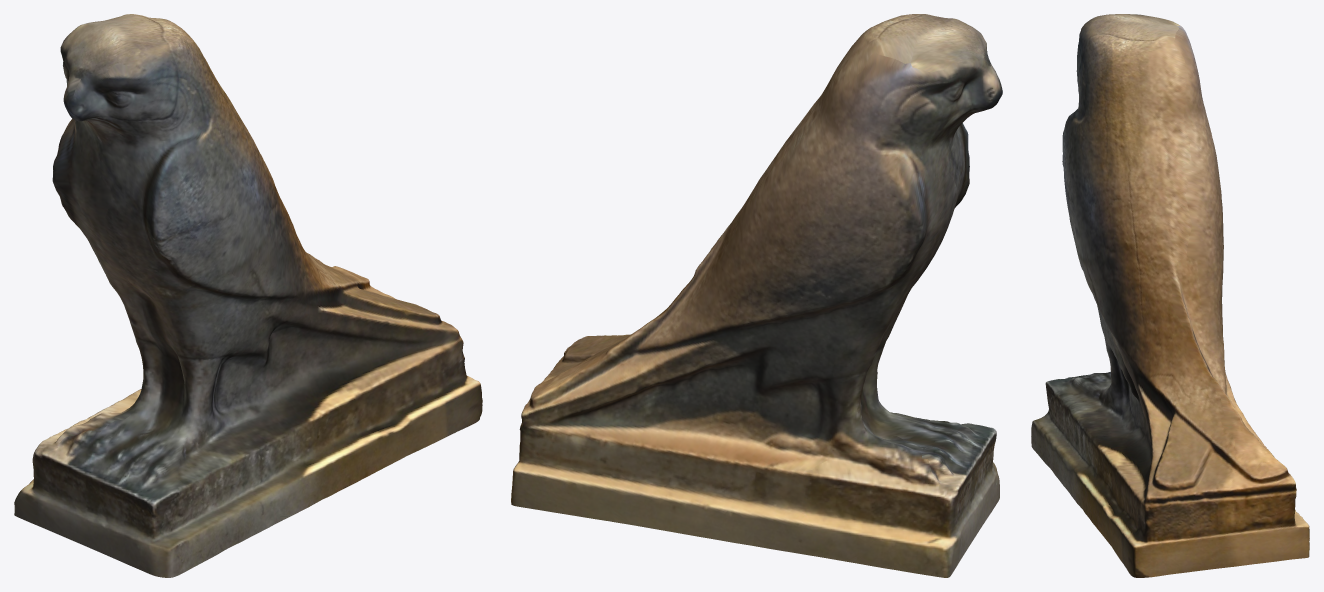
The model's file is horus_falcon.glb.
3 views of the same model, side by side, from view 1: azimuth 30°, elevation 25°; view 2: azimuth 150°, elevation 25°; view 3: azimuth 270°, elevation 25° (orthographic). The views are drawn at different scales.
Parts seen in each view (by area): view 1: Object_3; view 2: Object_3; view 3: Object_3.
Boxes of the visible parts, bbox=[...] form: Object_3: bbox=[14, 14, 482, 577]; Object_3: bbox=[511, 14, 1002, 577]; Object_3: bbox=[1031, 14, 1309, 577].
Size of the model in its own units: 22.29 by 24.97 by 14.74.
1 material, 1 textured.
